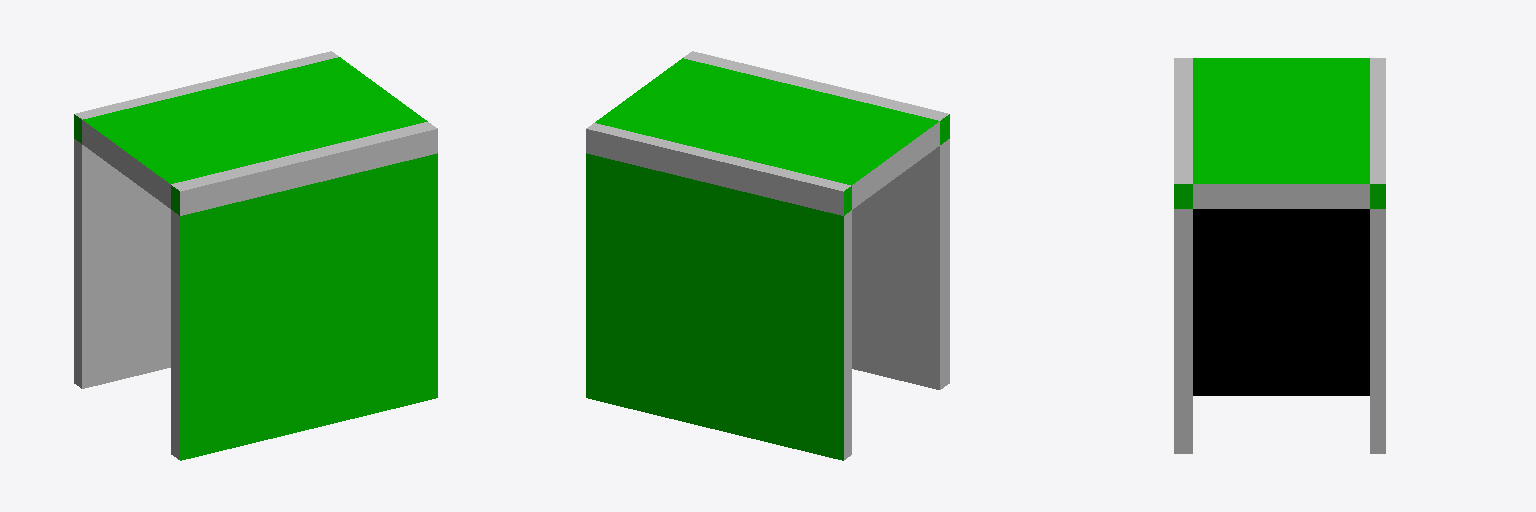
File: toilet.obj
3 renders of one model, left to right at view 1: azimuth 30°, elevation 25°; view 2: azimuth 150°, elevation 25°; view 3: azimuth 270°, elevation 25°, orthographic.
Visible parts, largest first — view 1: Cube; view 2: Cube; view 3: Cube.
Boxes of the visible parts, x1,y1,x2,y2 form: Cube: [74, 51, 437, 460]; Cube: [586, 51, 949, 460]; Cube: [1174, 58, 1385, 453].
Bounding box in the file's own units: 4.66 × 4.66 × 3.33.